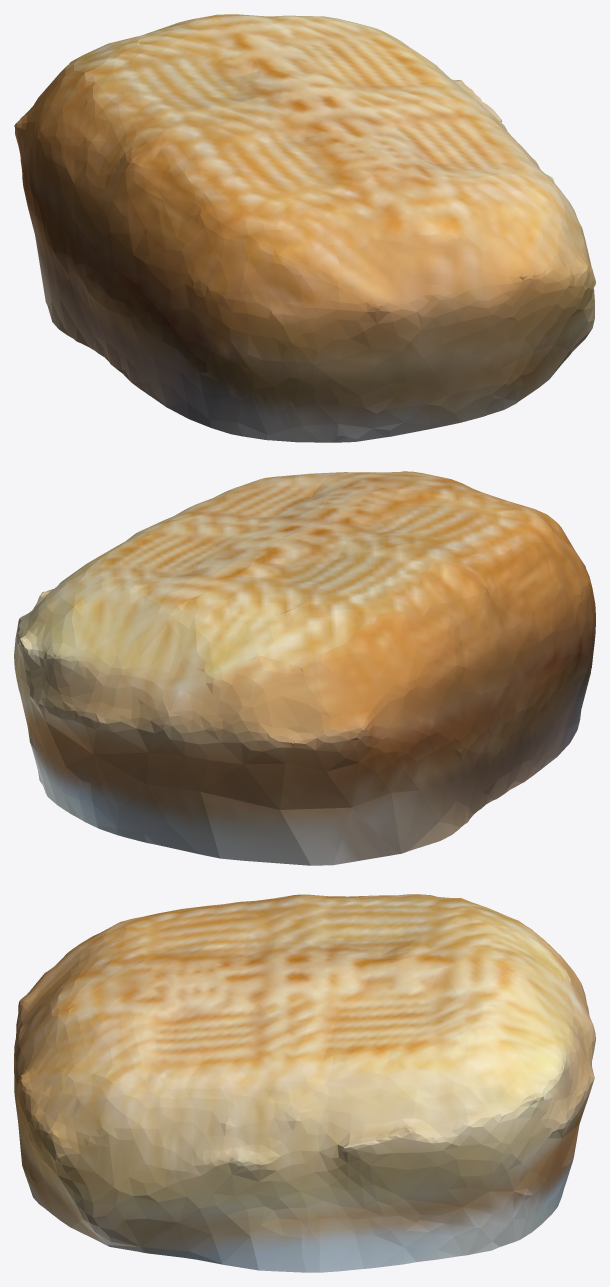
File: koku350k.glb
3 views of the same model, one above another, from view 1: azimuth 30°, elevation 25°; view 2: azimuth 150°, elevation 25°; view 3: azimuth 270°, elevation 25° (orthographic). The views are drawn at different scales.
Visible parts, largest first — view 1: mesh; view 2: mesh; view 3: mesh.
Boxes of the visible parts, box(x1,y1,x2,y2) form: mesh: box(14, 14, 595, 442); mesh: box(14, 471, 595, 865); mesh: box(14, 894, 595, 1272).
Size of the model in its own units: 0.0549 by 0.028 by 0.0679.
1 material, 1 textured.
